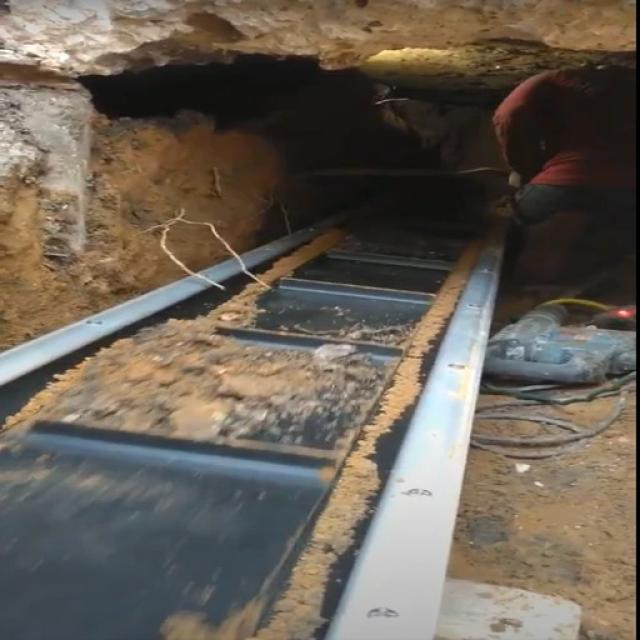conveyor: (0, 218, 492, 640)
